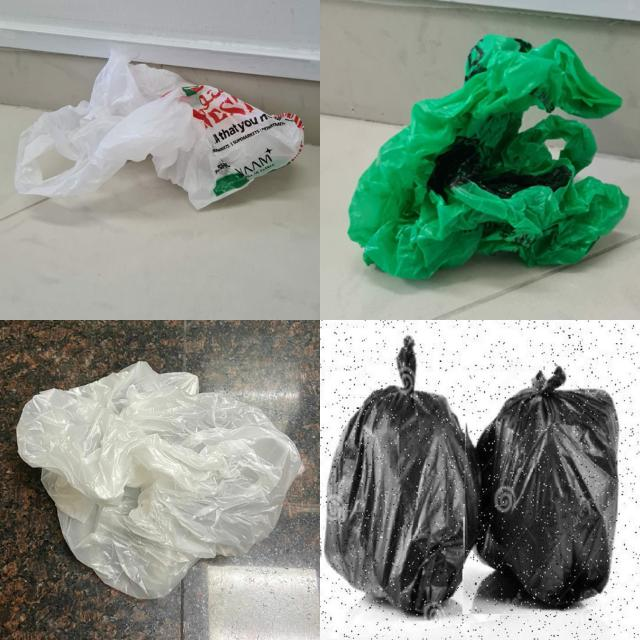Single-layer Plastic: (349, 35, 629, 279), (16, 361, 301, 599), (15, 49, 304, 209), (324, 336, 479, 615), (476, 366, 619, 608)
